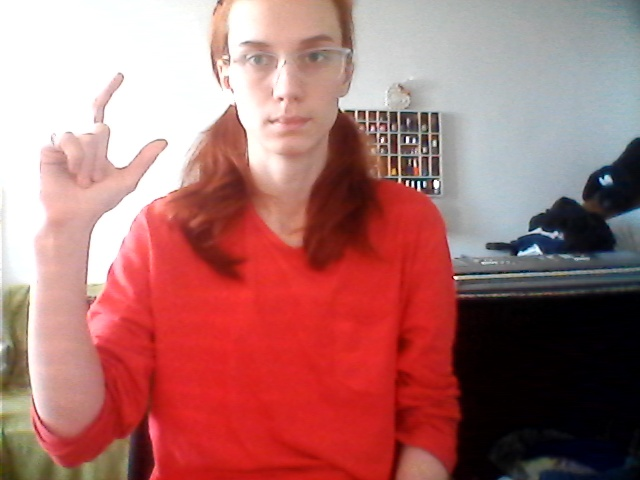c: (29, 70, 178, 229)
